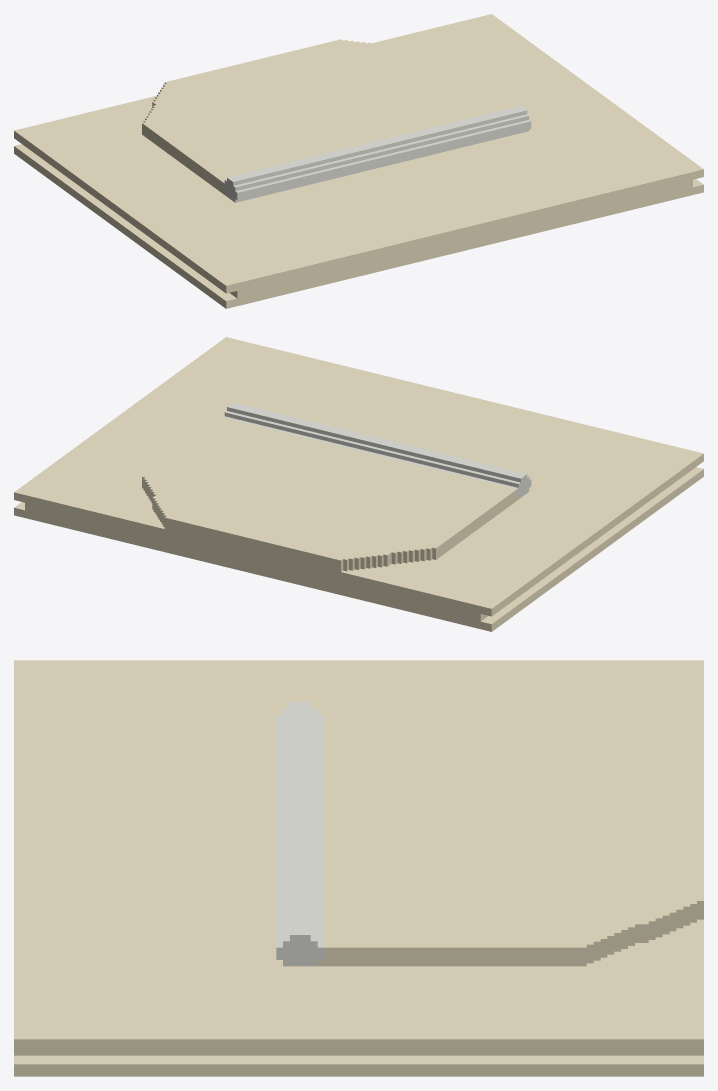
File: ghost_robe.glb
3 renders of one model, top to bottom at view 1: azimuth 30°, elevation 25°; view 2: azimuth 150°, elevation 25°; view 3: azimuth 270°, elevation 25°, orthographic. The views are drawn at different scales.
Parts seen in each view (by area): view 1: ghost_robe:compound; view 2: ghost_robe:compound; view 3: ghost_robe:compound.
Boxes of the visible parts, <box> form: ghost_robe:compound: <box>14,14,703,308</box>; ghost_robe:compound: <box>14,337,703,631</box>; ghost_robe:compound: <box>14,660,703,1076</box>.
Bounding box in the file's own units: 0.26 × 0.022 × 0.2.
